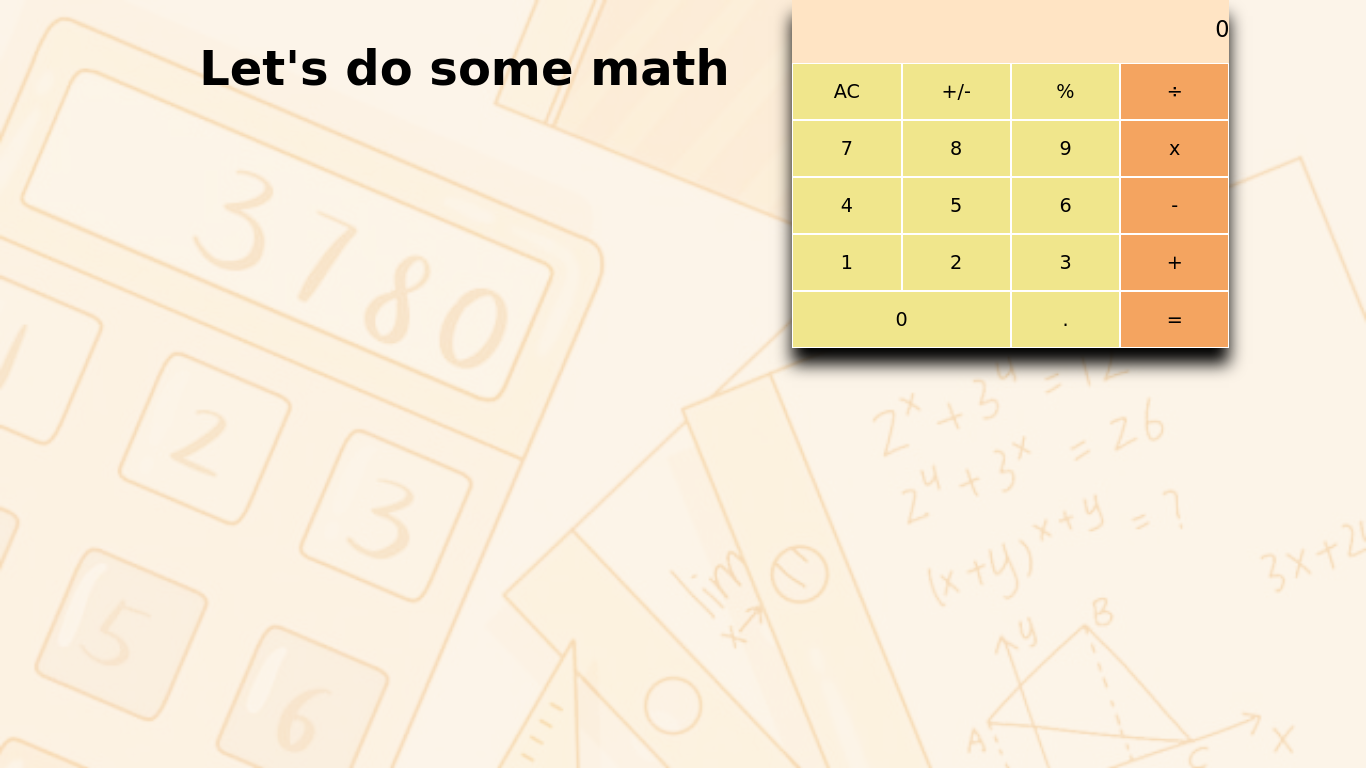
Test: Testing user interaction › Should display subtraction of two numbers
Click the button "1" at x=847, y=262, box [792,234,902,291]
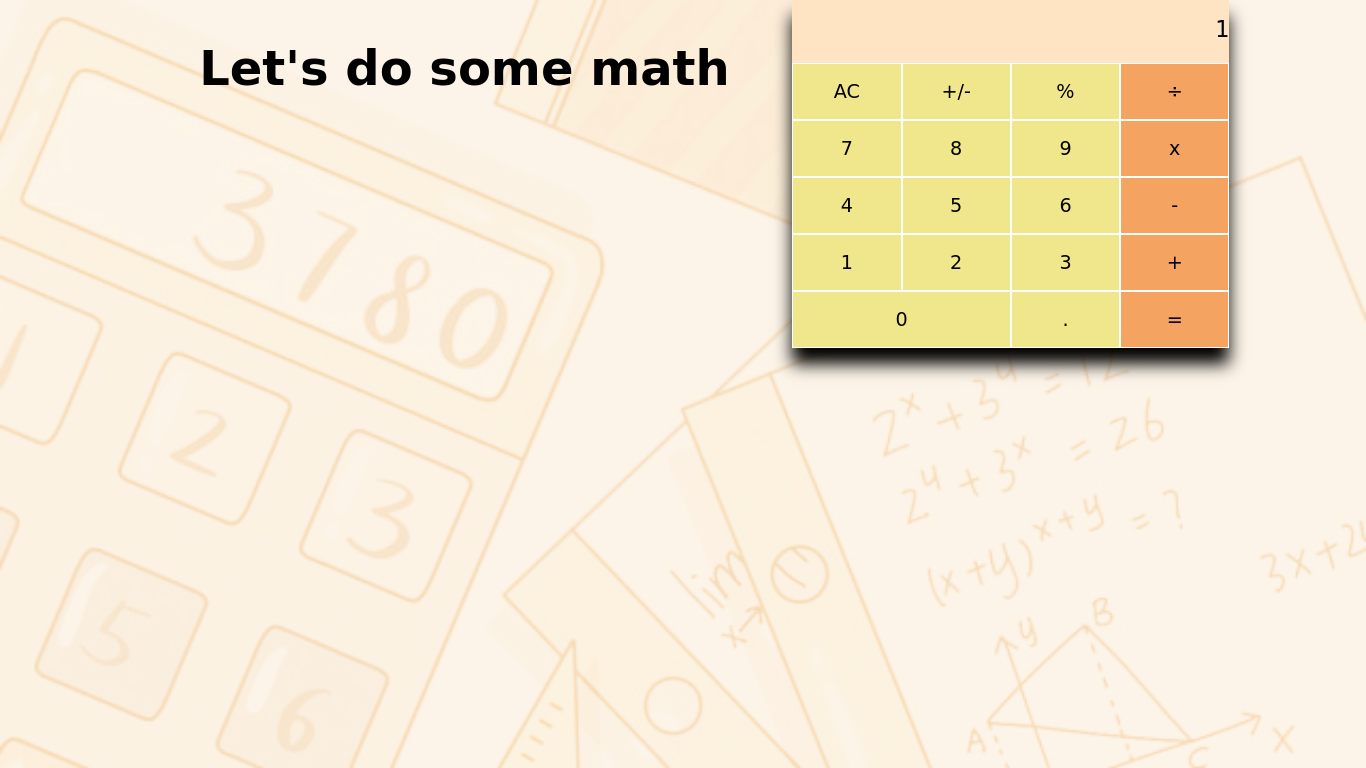
Click the button "-" at x=1175, y=205, box [1120,177,1229,234]
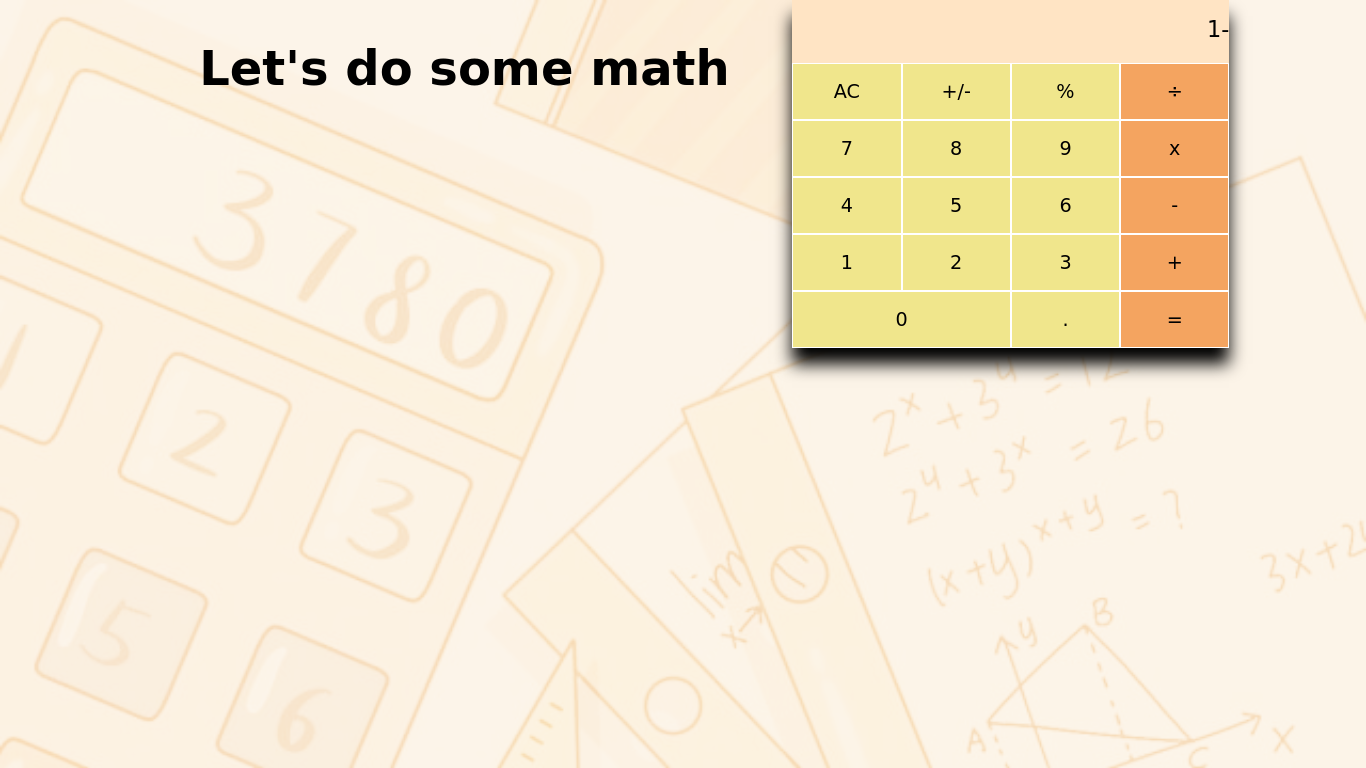
Click the button "3" at x=1065, y=262, box [1011,234,1120,291]
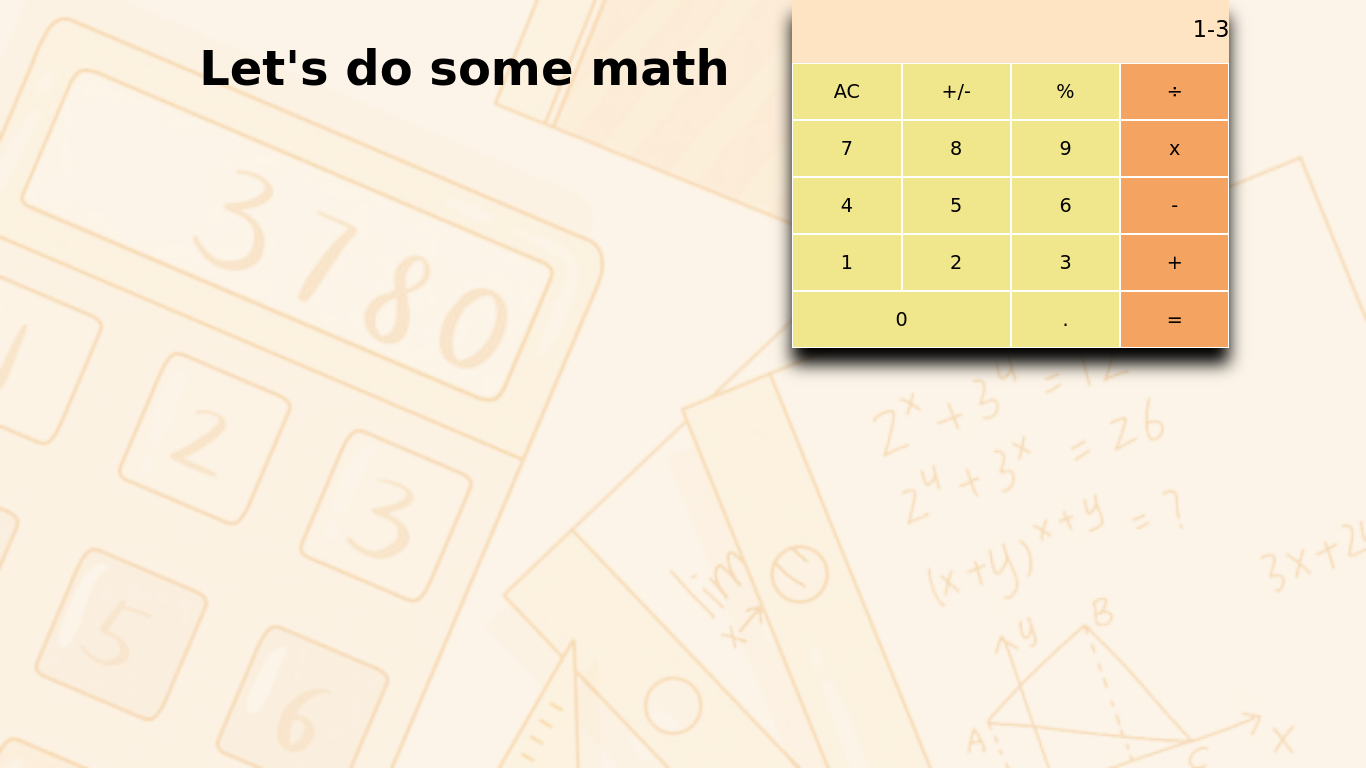
Click the button "=" at x=1175, y=319, box [1120,291,1229,348]
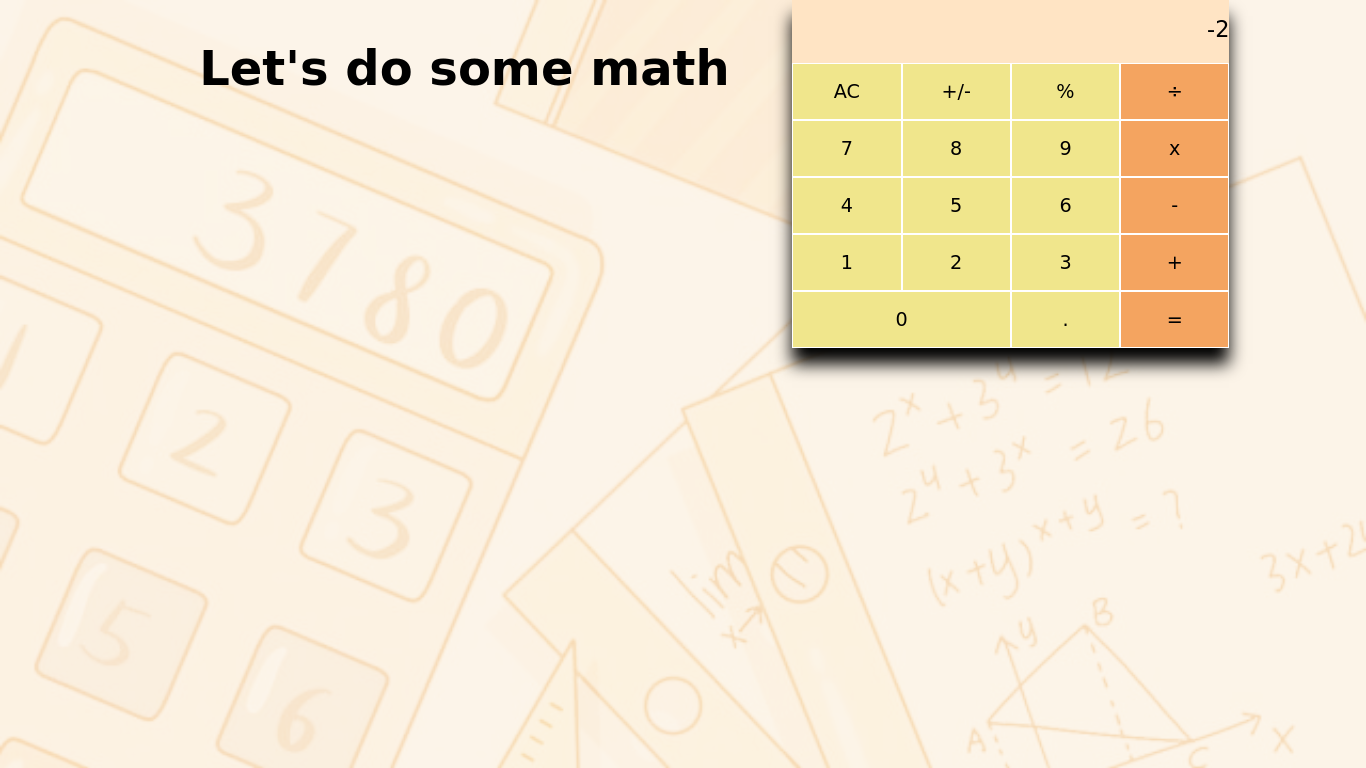
Expected: the text with class "display" reads "-2", [1207,16,1229,42]
